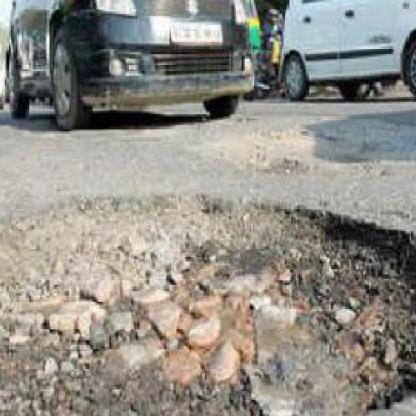pothole: (0, 186, 416, 416), (204, 122, 340, 173)
